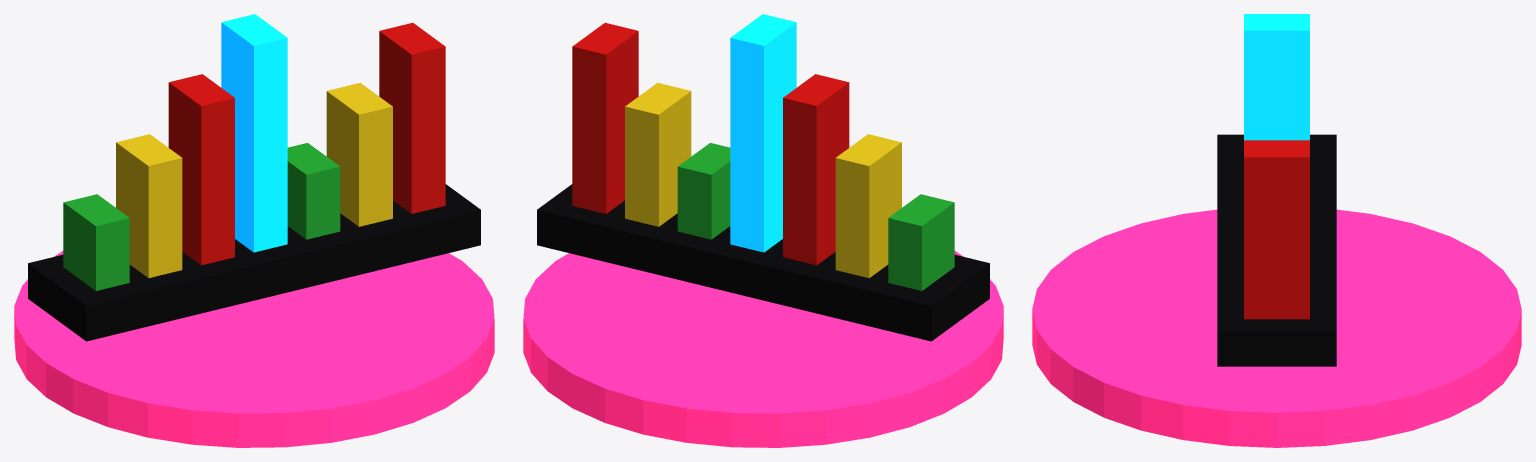
The model's file is music_equalizer.dae.
3 renders of one model, left to right at view 1: azimuth 30°, elevation 25°; view 2: azimuth 150°, elevation 25°; view 3: azimuth 270°, elevation 25°, orthographic.
Parts seen in each view (by area): view 1: 07_15_Popular_Music_Equalizer_ROOT_base, 07_15_Popular_Music_Equalizer_part_01, 07_15_Popular_Music_Equalizer_part_05, 07_15_Popular_Music_Equalizer_part_04, 07_15_Popular_Music_Equalizer_part_08, 07_15_Popular_Music_Equalizer_part_03, 07_15_Popular_Music_Equalizer_part_07, 07_15_Popular_Music_Equalizer_part_02, 07_15_Popular_Music_Equalizer_part_06; view 2: 07_15_Popular_Music_Equalizer_ROOT_base, 07_15_Popular_Music_Equalizer_part_01, 07_15_Popular_Music_Equalizer_part_05, 07_15_Popular_Music_Equalizer_part_04, 07_15_Popular_Music_Equalizer_part_08, 07_15_Popular_Music_Equalizer_part_03, 07_15_Popular_Music_Equalizer_part_07, 07_15_Popular_Music_Equalizer_part_02, 07_15_Popular_Music_Equalizer_part_06; view 3: 07_15_Popular_Music_Equalizer_ROOT_base, 07_15_Popular_Music_Equalizer_part_01, 07_15_Popular_Music_Equalizer_part_08, 07_15_Popular_Music_Equalizer_part_05.
Boxes of the visible parts, bbox=[...] form: 07_15_Popular_Music_Equalizer_ROOT_base: bbox=[14, 251, 494, 447]; 07_15_Popular_Music_Equalizer_part_01: bbox=[28, 184, 480, 341]; 07_15_Popular_Music_Equalizer_part_05: bbox=[221, 14, 287, 252]; 07_15_Popular_Music_Equalizer_part_04: bbox=[168, 74, 234, 265]; 07_15_Popular_Music_Equalizer_part_08: bbox=[379, 22, 445, 213]; 07_15_Popular_Music_Equalizer_part_03: bbox=[116, 134, 182, 278]; 07_15_Popular_Music_Equalizer_part_07: bbox=[326, 82, 392, 226]; 07_15_Popular_Music_Equalizer_part_02: bbox=[63, 194, 129, 290]; 07_15_Popular_Music_Equalizer_part_06: bbox=[287, 143, 340, 239]; 07_15_Popular_Music_Equalizer_ROOT_base: bbox=[523, 251, 1003, 447]; 07_15_Popular_Music_Equalizer_part_01: bbox=[537, 184, 989, 341]; 07_15_Popular_Music_Equalizer_part_05: bbox=[730, 14, 796, 252]; 07_15_Popular_Music_Equalizer_part_04: bbox=[783, 74, 849, 265]; 07_15_Popular_Music_Equalizer_part_08: bbox=[572, 22, 638, 213]; 07_15_Popular_Music_Equalizer_part_03: bbox=[835, 134, 901, 278]; 07_15_Popular_Music_Equalizer_part_07: bbox=[625, 82, 691, 226]; 07_15_Popular_Music_Equalizer_part_02: bbox=[888, 194, 954, 290]; 07_15_Popular_Music_Equalizer_part_06: bbox=[677, 143, 730, 239]; 07_15_Popular_Music_Equalizer_ROOT_base: bbox=[1032, 209, 1521, 447]; 07_15_Popular_Music_Equalizer_part_01: bbox=[1217, 134, 1336, 366]; 07_15_Popular_Music_Equalizer_part_08: bbox=[1244, 140, 1309, 319]; 07_15_Popular_Music_Equalizer_part_05: bbox=[1244, 14, 1309, 140].
Bounding box in the file's own units: 0.76 × 0.5517 × 0.76.
